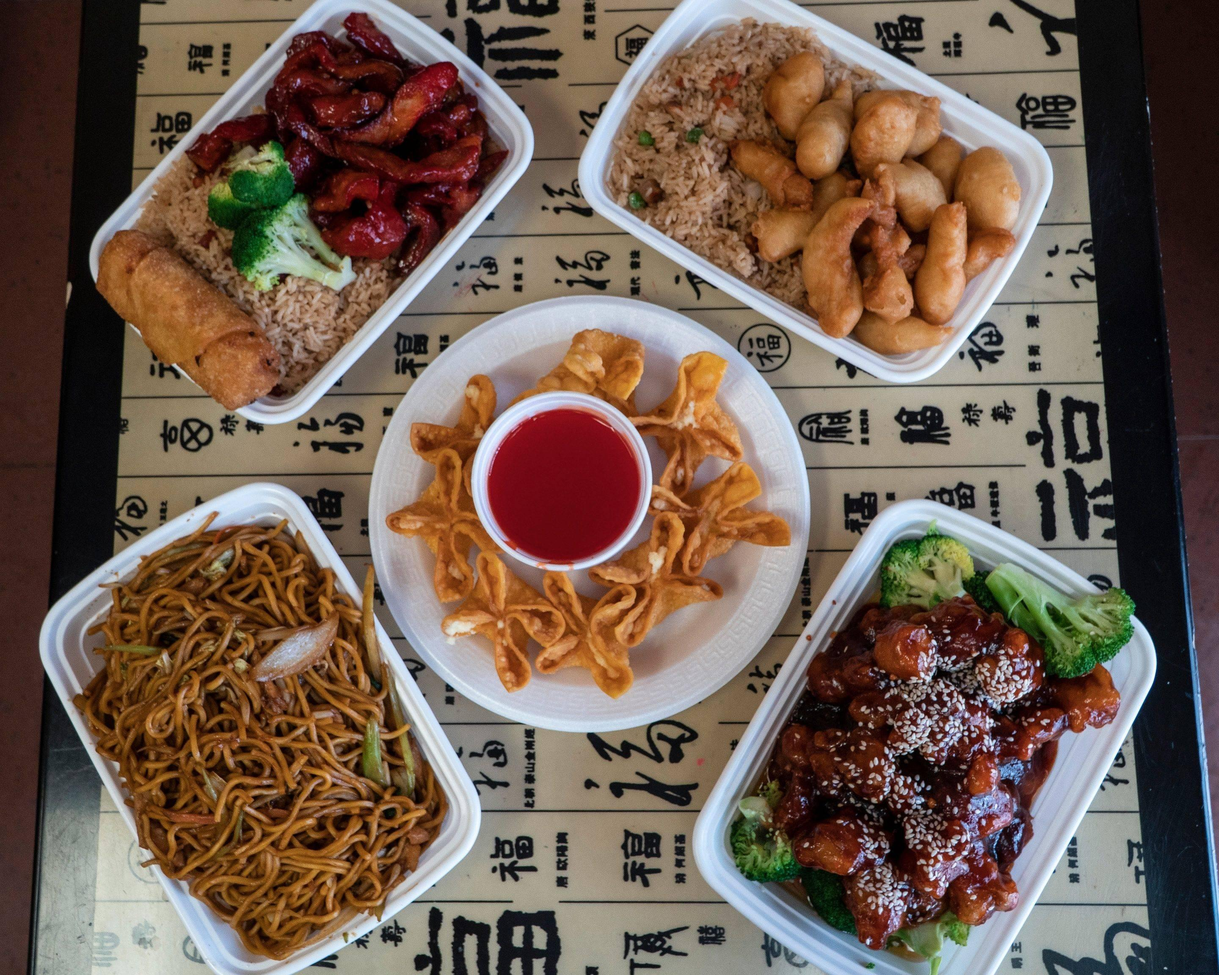Braised Crucian Carp: (694, 491, 1150, 975), (31, 480, 471, 964), (574, 0, 1050, 390), (85, 2, 515, 418), (375, 298, 760, 689)
